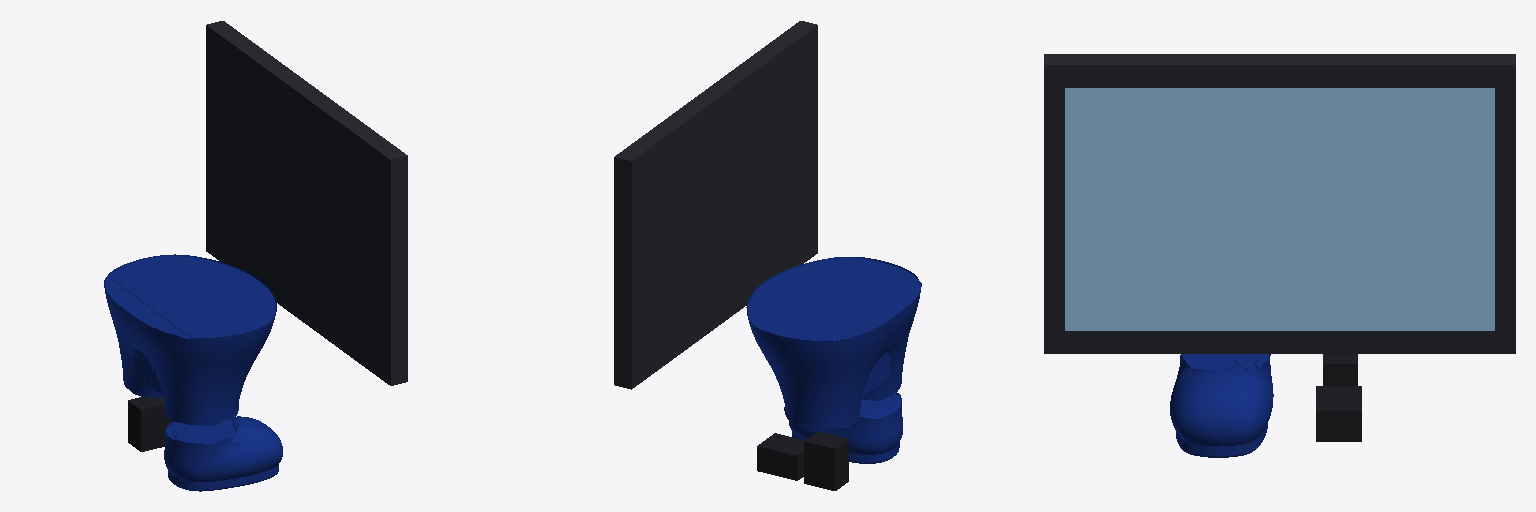
The robot description file, URDF, robot "haetburi":
<?xml version="1.0"?>
<!-- Haetburi biped (v16_xl330) - generated by tools/build_model.py, do not edit by hand -->
<robot name="haetburi">
  <mujoco>
    <compiler meshdir="." balanceinertia="true" discardvisual="false" strippath="false" fusestatic="false"/>
  </mujoco>
  <material name="display"><color rgba="0.18 0.19 0.21 1"/></material>
  <material name="screen"><color rgba="0.62 0.80 0.95 1"/></material>
  <material name="shell"><color rgba="0.106 0.216 0.541 1"/></material>
  <material name="motor"><color rgba="0.15 0.15 0.17 1"/></material>
  <material name="foot"><color rgba="0.25 0.25 0.28 1"/></material>
  <link name="world"/>
  <joint name="floating_base" type="floating">
    <parent link="world"/><child link="pelvis"/>
    <origin xyz="0 0 0" rpy="0 0 0"/>
  </joint>
  <link name="pelvis">
    <inertial>
      <origin xyz="-0.00663191 -0.00010104 0.0483088" rpy="0 0 0"/>
      <mass value="0.330361"/>
      <inertia ixx="0.000658056" ixy="2.45012e-07" ixz="0.000180106" iyy="0.000724501" iyz="-5.80983e-07" izz="0.000745682"/>
    </inertial>
    <visual><origin xyz="0 0 0" rpy="0 0 0"/><geometry><mesh filename="meshes/pelvis.stl"/></geometry><material name="shell"/></visual>
    <visual><origin xyz="0.00880329 0.0305891 0.033" rpy="0 0 0"/><geometry><box size="0.034 0.02 0.026"/></geometry><material name="motor"/></visual>
    <visual><origin xyz="0.00879671 -0.0309666 0.033" rpy="0 0 0"/><geometry><box size="0.034 0.02 0.026"/></geometry><material name="motor"/></visual>
    <collision><origin xyz="0.0093299 -0.000182784 0.032635" rpy="0 0 0"/><geometry><box size="0.111861 0.148545 0.06527"/></geometry></collision>
  </link>
  <link name="torso">
    <inertial>
      <origin xyz="0.0208113 0.000139946 0.17184" rpy="0 0 0"/>
      <mass value="3.88913"/>
      <inertia ixx="0.0994754" ixy="-0.000316424" ixz="0.0162025" iyy="0.0999648" iyz="-0.000296189" izz="0.054811"/>
    </inertial>
    <visual><origin xyz="0 0 0" rpy="0 0 0"/><geometry><mesh filename="meshes/torso.stl"/></geometry><material name="shell"/></visual>
    <visual><origin xyz="0.10497 0 0.0522021" rpy="0 0 0"/><geometry><box size="0.014766 0.270282 0.182713"/></geometry><material name="display"/></visual>
    <visual><origin xyz="0.112353 0 0.0522021" rpy="0 0 0"/><geometry><box size="0.0004 0.246528 0.15408"/></geometry><material name="screen"/></visual>
    <collision><origin xyz="-0.0487372 -2.2688e-06 0.0359563" rpy="0 0 0"/><geometry><box size="0.228767 0.15512 0.15276"/></geometry></collision>
    <collision><origin xyz="0.0595134 0.120154 0.0724547" rpy="0 0 0"/><geometry><sphere radius="0.0869147"/></geometry></collision>
    <collision><origin xyz="0.0599249 -0.120339 0.0724547" rpy="0 0 0"/><geometry><sphere radius="0.0868311"/></geometry></collision>
    <collision><origin xyz="-0.00746993 0.000382019 0.146682" rpy="0 0 0"/><geometry><sphere radius="0.149076"/></geometry></collision>
    <collision><origin xyz="-0.0130166 -0.000175633 0.215328" rpy="0 0 0"/><geometry><sphere radius="0.171989"/></geometry></collision>
    <collision><origin xyz="-0.0198206 -0.000289876 0.283986" rpy="0 0 0"/><geometry><sphere radius="0.169997"/></geometry></collision>
    <collision><origin xyz="-0.0155492 0.00122453 0.35264" rpy="0 0 0"/><geometry><sphere radius="0.147819"/></geometry></collision>
    <collision><origin xyz="-0.00920094 0.00969252 0.421336" rpy="0 0 0"/><geometry><sphere radius="0.105361"/></geometry></collision>
    <collision><origin xyz="-0.016862 -0.0032036 0.489972" rpy="0 0 0"/><geometry><sphere radius="0.061144"/></geometry></collision>
    <collision><origin xyz="0.10497 0 0.0522021" rpy="0 0 0"/><geometry><box size="0.014766 0.270282 0.182713"/></geometry></collision>
  </link>
  <link name="leg_l">
    <inertial>
      <origin xyz="-0.000953843 -0.000344029 -0.0212753" rpy="0 0 0"/>
      <mass value="0.0287803"/>
      <inertia ixx="1.39279e-05" ixy="-1.41688e-08" ixz="2.77308e-07" iyy="1.33091e-05" iyz="1.37212e-07" izz="1.25508e-05"/>
    </inertial>
    <visual><origin xyz="0 0 0" rpy="0 0 0"/><geometry><mesh filename="meshes/leg_l.stl"/></geometry><material name="shell"/></visual>
    <collision><origin xyz="-7.07693e-07 -9.75618e-06 -0.00764038" rpy="0 0 0"/><geometry><box size="0.0583508 0.0534592 0.0152808"/></geometry></collision>
  </link>
  <link name="ankle_l">
    <inertial>
      <origin xyz="-0.00126996 0.00020639 -0.000918843" rpy="0 0 0"/>
      <mass value="0.0337343"/>
      <inertia ixx="3.35277e-06" ixy="8.02073e-08" ixz="-3.57081e-07" iyy="7.32892e-06" iyz="7.31859e-09" izz="8.36758e-06"/>
    </inertial>
    <visual><origin xyz="0.0088 0 0" rpy="0 0 0"/><geometry><box size="0.034 0.026 0.02"/></geometry><material name="motor"/></visual>
  </link>
  <link name="foot_l">
    <inertial>
      <origin xyz="0.016639 -0.00128813 0.00324298" rpy="0 0 0"/>
      <mass value="0.113551"/>
      <inertia ixx="4.93759e-05" ixy="-1.52275e-06" ixz="-2.90321e-06" iyy="8.98238e-05" iyz="1.52191e-07" izz="9.93177e-05"/>
    </inertial>
    <visual><origin xyz="0 0 0" rpy="0 0 0"/><geometry><mesh filename="meshes/foot_l.stl"/></geometry><material name="shell"/></visual>
    <visual><origin xyz="0 0 0.0088" rpy="0 0 0"/><geometry><box size="0.026 0.02 0.034"/></geometry><material name="motor"/></visual>
    <collision><origin xyz="0 0 0" rpy="0 0 0"/><geometry><mesh filename="meshes/foot_l.stl"/></geometry></collision>
  </link>
  <link name="leg_r">
    <inertial>
      <origin xyz="-0.000710425 0.000394773 -0.0211349" rpy="0 0 0"/>
      <mass value="0.0289968"/>
      <inertia ixx="1.41135e-05" ixy="-8.14208e-08" ixz="2.21058e-07" iyy="1.33027e-05" iyz="-1.57943e-07" izz="1.27122e-05"/>
    </inertial>
    <visual><origin xyz="0 0 0" rpy="0 0 0"/><geometry><mesh filename="meshes/leg_r.stl"/></geometry><material name="shell"/></visual>
    <collision><origin xyz="1.69005e-06 1.54666e-05 -0.00754241" rpy="0 0 0"/><geometry><box size="0.0583036 0.053562 0.0150848"/></geometry></collision>
  </link>
  <link name="ankle_r">
    <inertial>
      <origin xyz="-0.00126996 0.00020639 -0.000918843" rpy="0 0 0"/>
      <mass value="0.0337343"/>
      <inertia ixx="3.35277e-06" ixy="8.02073e-08" ixz="-3.57081e-07" iyy="7.32892e-06" iyz="7.31859e-09" izz="8.36758e-06"/>
    </inertial>
    <visual><origin xyz="0.0088 0 0" rpy="0 0 0"/><geometry><box size="0.034 0.026 0.02"/></geometry><material name="motor"/></visual>
  </link>
  <link name="foot_r">
    <inertial>
      <origin xyz="0.0164265 0.000901915 0.00317962" rpy="0 0 0"/>
      <mass value="0.11323"/>
      <inertia ixx="4.90012e-05" ixy="1.97869e-06" ixz="-2.70094e-06" iyy="8.91513e-05" iyz="-7.24863e-08" izz="9.86467e-05"/>
    </inertial>
    <visual><origin xyz="0 0 0" rpy="0 0 0"/><geometry><mesh filename="meshes/foot_r.stl"/></geometry><material name="shell"/></visual>
    <visual><origin xyz="0 0 0.0088" rpy="0 0 0"/><geometry><box size="0.026 0.02 0.034"/></geometry><material name="motor"/></visual>
    <collision><origin xyz="0 0 0" rpy="0 0 0"/><geometry><mesh filename="meshes/foot_r.stl"/></geometry></collision>
  </link>
  <joint name="waist_fixed" type="fixed">
    <parent link="pelvis"/><child link="torso"/>
    <origin xyz="0 0 0.06527" rpy="0 0 0"/>
  </joint>
  <joint name="hip_yaw_l" type="revolute">
    <parent link="pelvis"/><child link="leg_l"/>
    <origin xyz="3.29473e-06 0.0305891 0" rpy="0 0 0"/>
    <axis xyz="0 0 1"/>
    <limit lower="-0.523599" upper="0.523599" effort="0.52" velocity="10.79"/>
    <dynamics damping="0.037142857142857144" friction="0.014857142857142859"/>
  </joint>
  <joint name="hip_yaw_r" type="revolute">
    <parent link="pelvis"/><child link="leg_r"/>
    <origin xyz="-3.29473e-06 -0.0309666 0" rpy="0 0 0"/>
    <axis xyz="0 0 1"/>
    <limit lower="-0.523599" upper="0.523599" effort="0.52" velocity="10.79"/>
    <dynamics damping="0.037142857142857144" friction="0.014857142857142859"/>
  </joint>
  <joint name="ankle_pitch_l" type="revolute">
    <parent link="leg_l"/><child link="ankle_l"/>
    <origin xyz="0.0179278 0.00322027 -0.052165" rpy="0 0 0"/>
    <axis xyz="0 1 0"/>
    <limit lower="-0.261799" upper="0.261799" effort="0.52" velocity="10.79"/>
    <dynamics damping="0.037142857142857144" friction="0.014857142857142859"/>
  </joint>
  <joint name="ankle_pitch_r" type="revolute">
    <parent link="leg_r"/><child link="ankle_r"/>
    <origin xyz="0.0180775 -0.00447767 -0.052165" rpy="0 0 0"/>
    <axis xyz="0 1 0"/>
    <limit lower="-0.261799" upper="0.261799" effort="0.52" velocity="10.79"/>
    <dynamics damping="0.037142857142857144" friction="0.014857142857142859"/>
  </joint>
  <joint name="ankle_roll_l" type="revolute">
    <parent link="ankle_l"/><child link="foot_l"/>
    <origin xyz="-0.02558 0.000885 -0.00394" rpy="0 0 0"/>
    <axis xyz="1 0 0"/>
    <limit lower="-0.20944" upper="0.20944" effort="0.52" velocity="10.79"/>
    <dynamics damping="0.037142857142857144" friction="0.014857142857142859"/>
  </joint>
  <joint name="ankle_roll_r" type="revolute">
    <parent link="ankle_r"/><child link="foot_r"/>
    <origin xyz="-0.02558 0.000885 -0.00394" rpy="0 0 0"/>
    <axis xyz="1 0 0"/>
    <limit lower="-0.20944" upper="0.20944" effort="0.52" velocity="10.79"/>
    <dynamics damping="0.037142857142857144" friction="0.014857142857142859"/>
  </joint>
</robot>

--- What the picture shows (computed from the rendered views, not written in the file) ---
The picture shows the robot from 3 angles, left to right: view 1: azimuth 30°, elevation 25°; view 2: azimuth 150°, elevation 25°; view 3: azimuth 270°, elevation 25°; orthographic projection.
Robot: haetburi — 9 links, 8 joints (6 revolute, 1 fixed, 1 floating); root link world; default pose: every joint at zero.
Links seen in each view (by area): view 1: torso, pelvis, foot_r, foot_l, leg_r, leg_l; view 2: torso, pelvis, foot_r, foot_l, ankle_l, leg_l; view 3: torso, foot_r, ankle_l, foot_l.
Boxes of the visible links, x1,y1,x2,y2 form: torso: [206, 21, 407, 385]; pelvis: [104, 254, 276, 410]; foot_r: [164, 416, 282, 491]; foot_l: [128, 396, 171, 451]; leg_r: [163, 397, 239, 425]; leg_l: [122, 366, 161, 397]; torso: [614, 21, 817, 389]; pelvis: [746, 257, 921, 414]; foot_r: [789, 393, 902, 463]; foot_l: [804, 431, 848, 490]; ankle_l: [757, 433, 805, 480]; leg_l: [784, 401, 861, 429]; torso: [1044, 54, 1515, 353]; foot_r: [1170, 354, 1273, 457]; ankle_l: [1316, 386, 1361, 441]; foot_l: [1323, 354, 1357, 385].
Bounding box of the posed robot: 0.1592 × 0.2703 × 0.2757 m (x, y, z).
4 mesh visuals loaded from 6 distinct referenced files (4 binary STL); not drawn: 2 (reference not matched to a file when rendering).
